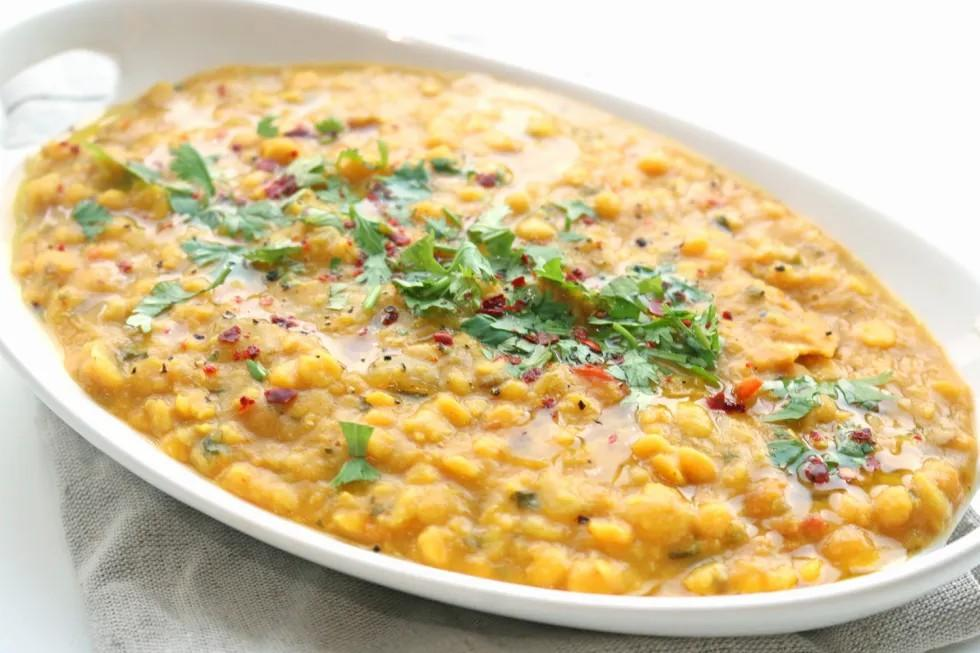Dal: (15, 65, 980, 595)
